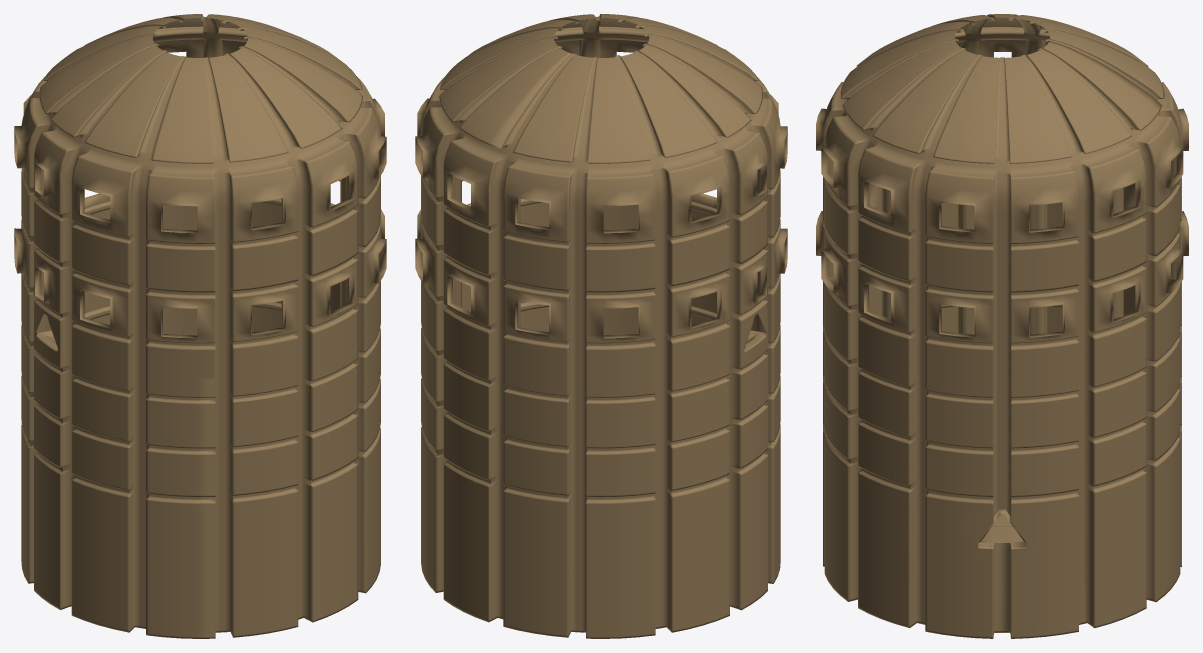
File: Cupula.fbx
The picture shows the model from 3 angles, left to right: view 1: azimuth 30°, elevation 25°; view 2: azimuth 150°, elevation 25°; view 3: azimuth 270°, elevation 25°; orthographic projection.
Visible parts, largest first — view 1: cupula prueba; view 2: cupula prueba; view 3: cupula prueba.
Part boxes in pixels (x1,y1,x2,y2): cupula prueba: (14,14,386,638); cupula prueba: (415,14,787,638); cupula prueba: (816,14,1188,638).
Size of the model in its own units: 2621 by 4093 by 2634.
